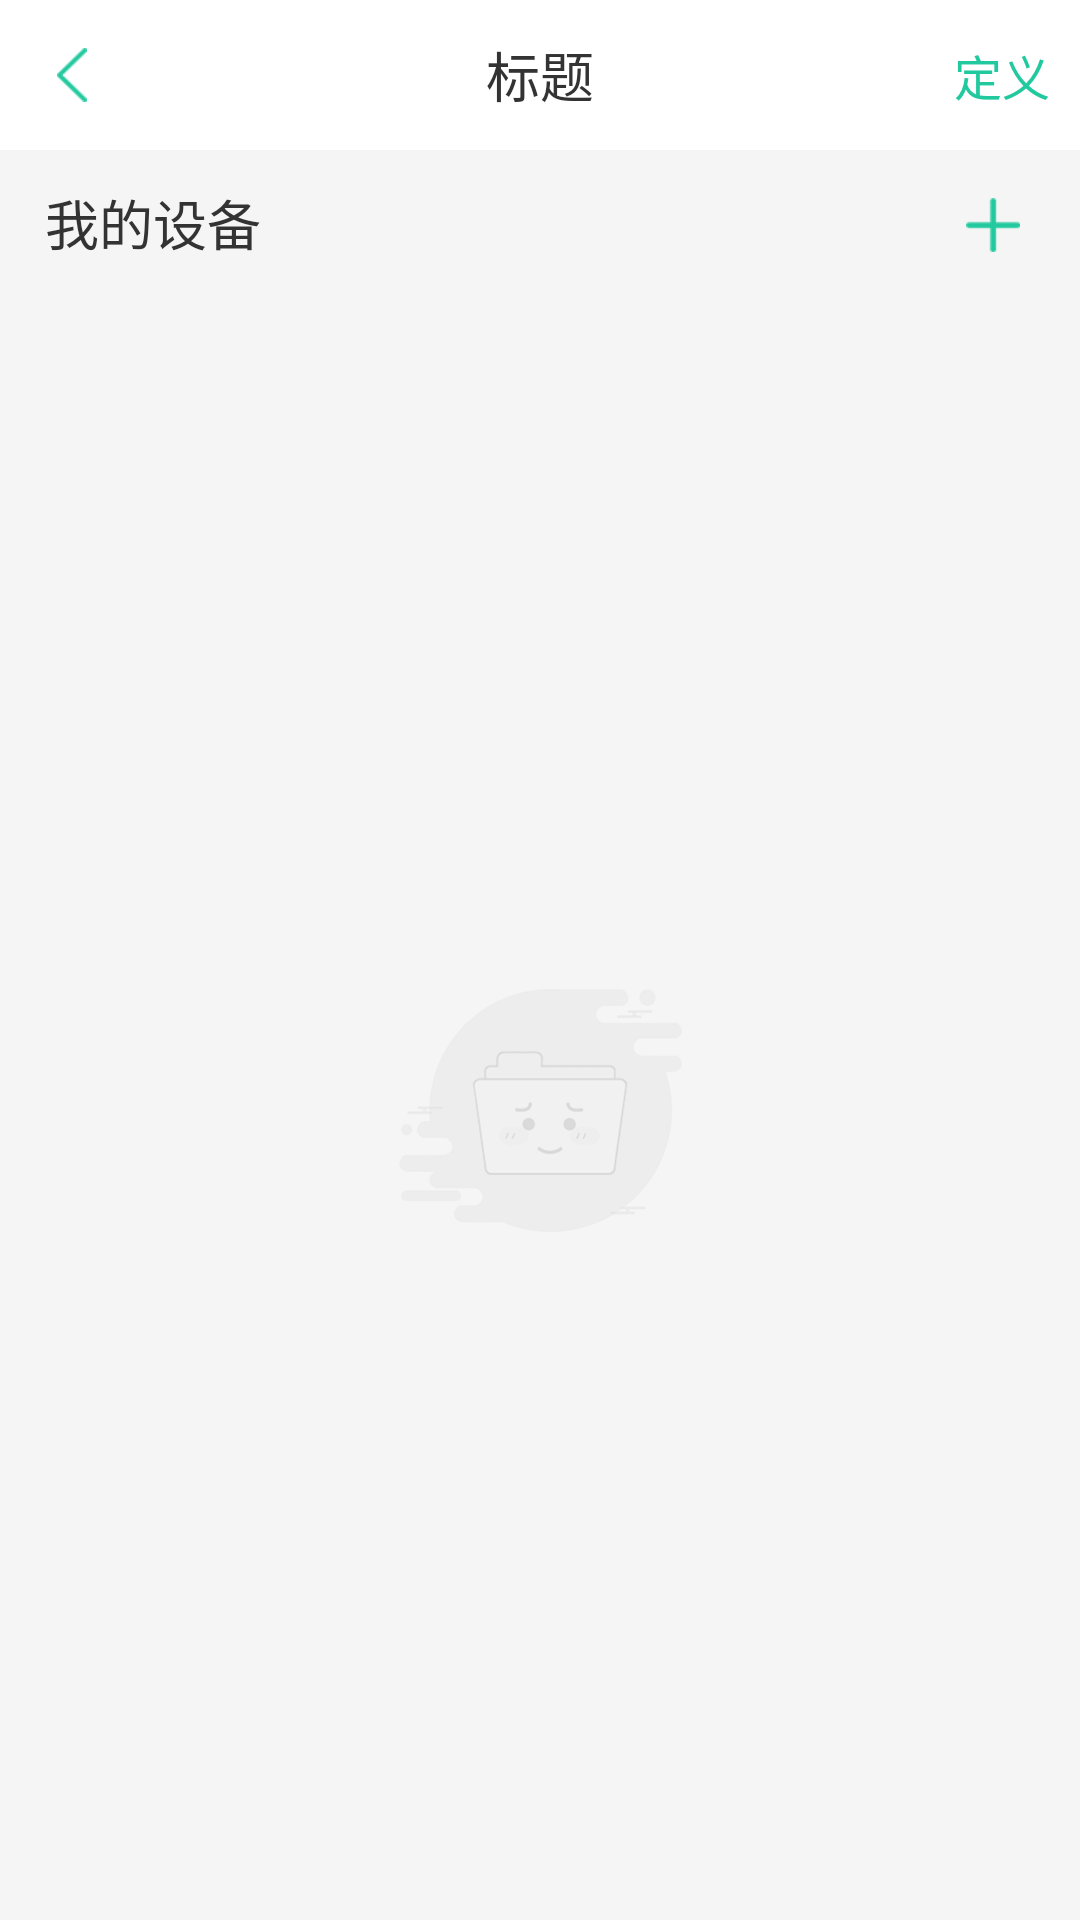

Where to tap for icons on this 1080 × 1920 app screen, as (x,y):
device add: (993,225)
return: (72,75)
